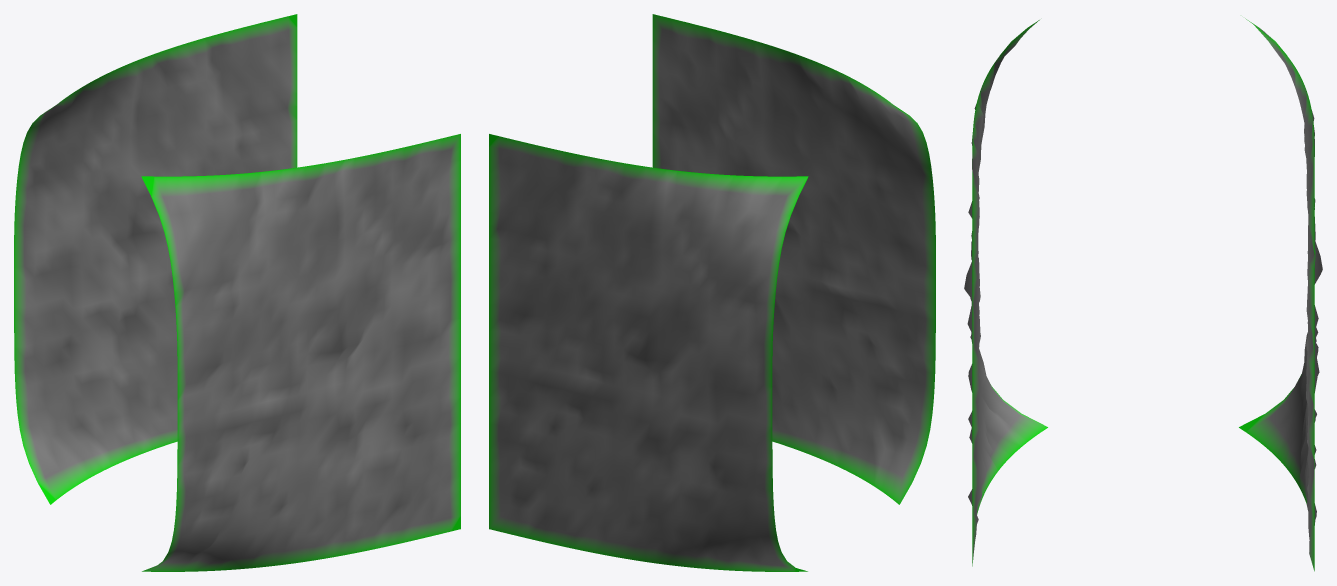
Rendered from SM_LabyrinthTile_StraightenB.fbx.
3 renders of one model, left to right at view 1: azimuth 30°, elevation 25°; view 2: azimuth 150°, elevation 25°; view 3: azimuth 270°, elevation 25°, orthographic. The views are drawn at different scales.
Parts seen in each view (by area): view 1: transform10; view 2: transform10; view 3: transform10.
Part boxes in pixels (<box>): transform10: <box>14,14,460,571</box>; transform10: <box>489,14,935,571</box>; transform10: <box>964,18,1322,571</box>.
Size of the model in its own units: 300 by 400 by 315.
